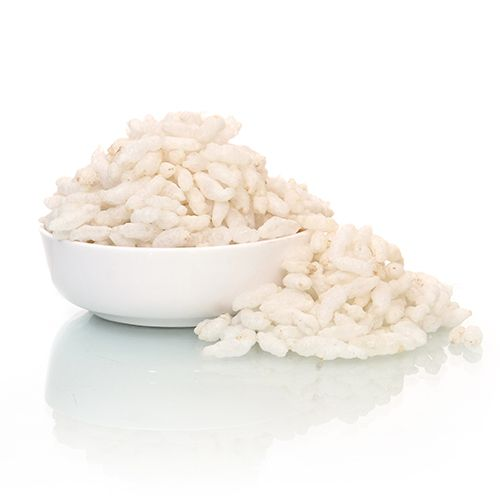plain rice: (53, 120, 345, 240)
